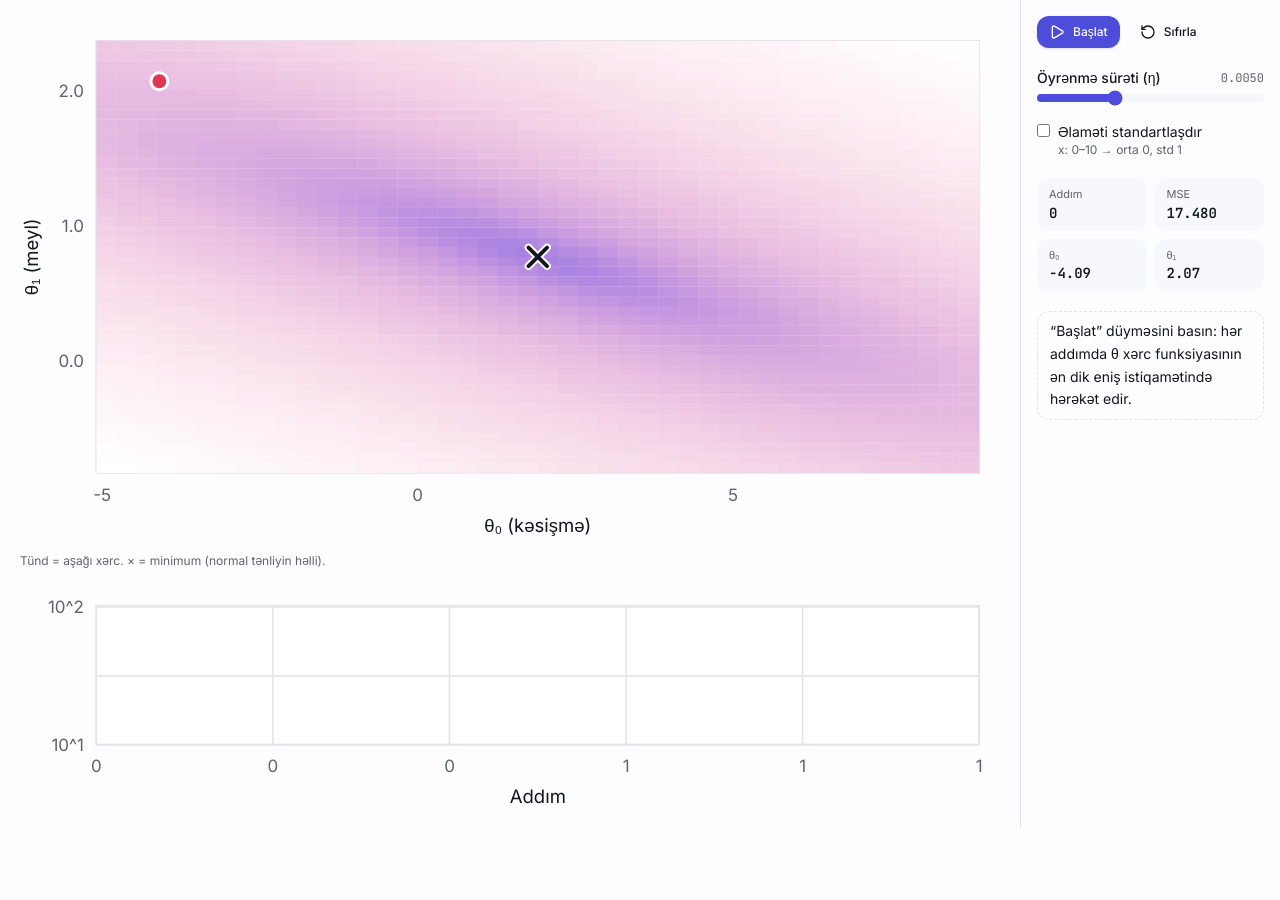
Test: chapter 4 demos (smoke) › gradient descent: scaled feature with η = 0.1 reaches the minimum
Click the checkbox labelled "Əlaməti standartlaşdır x: 0–10 → orta 0, std 1": (1044, 130) [1037, 124, 1050, 137]
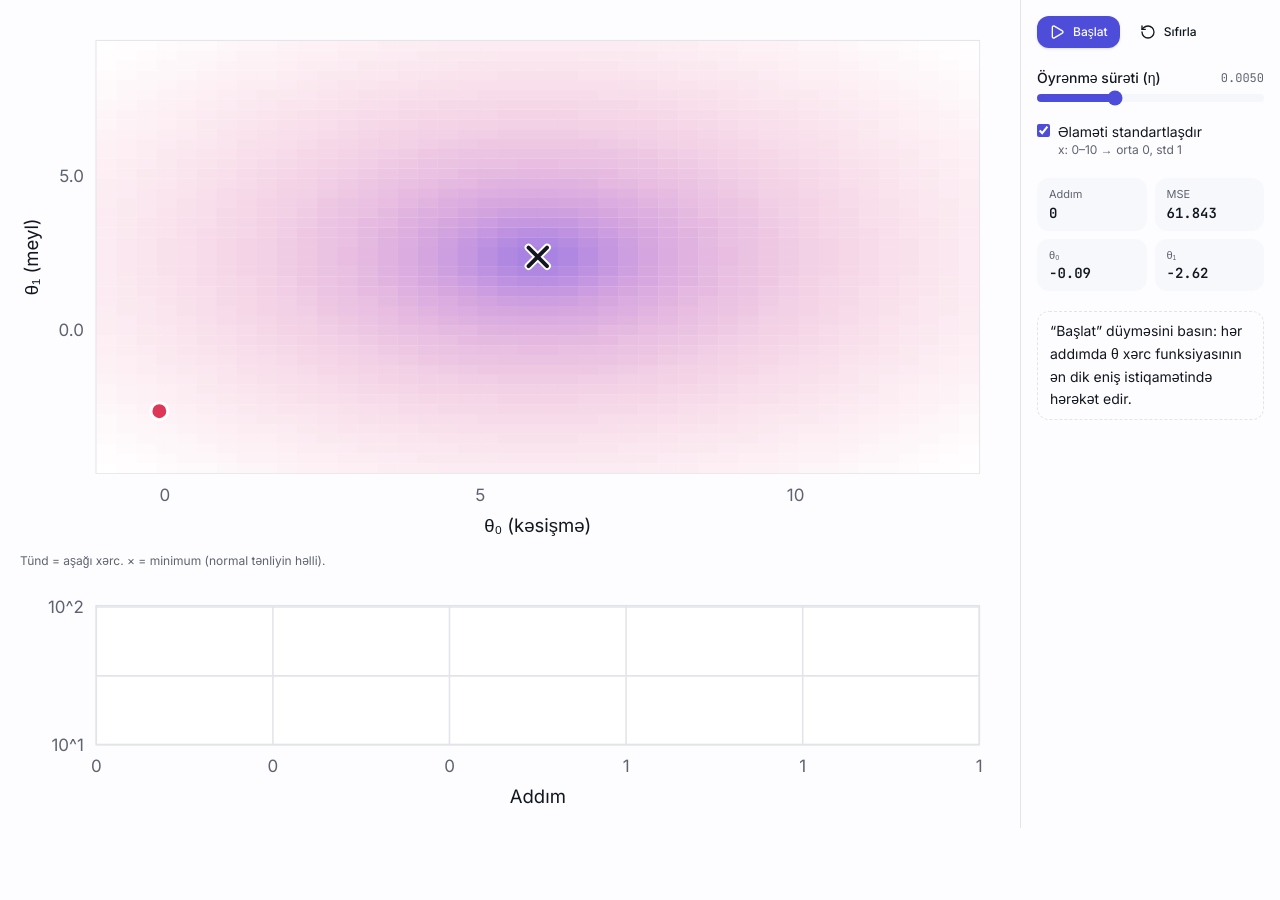
Set the slider labelled "Öyrənmə sürəti (η)" to "-1": (1192, 98) [1037, 94, 1264, 102]
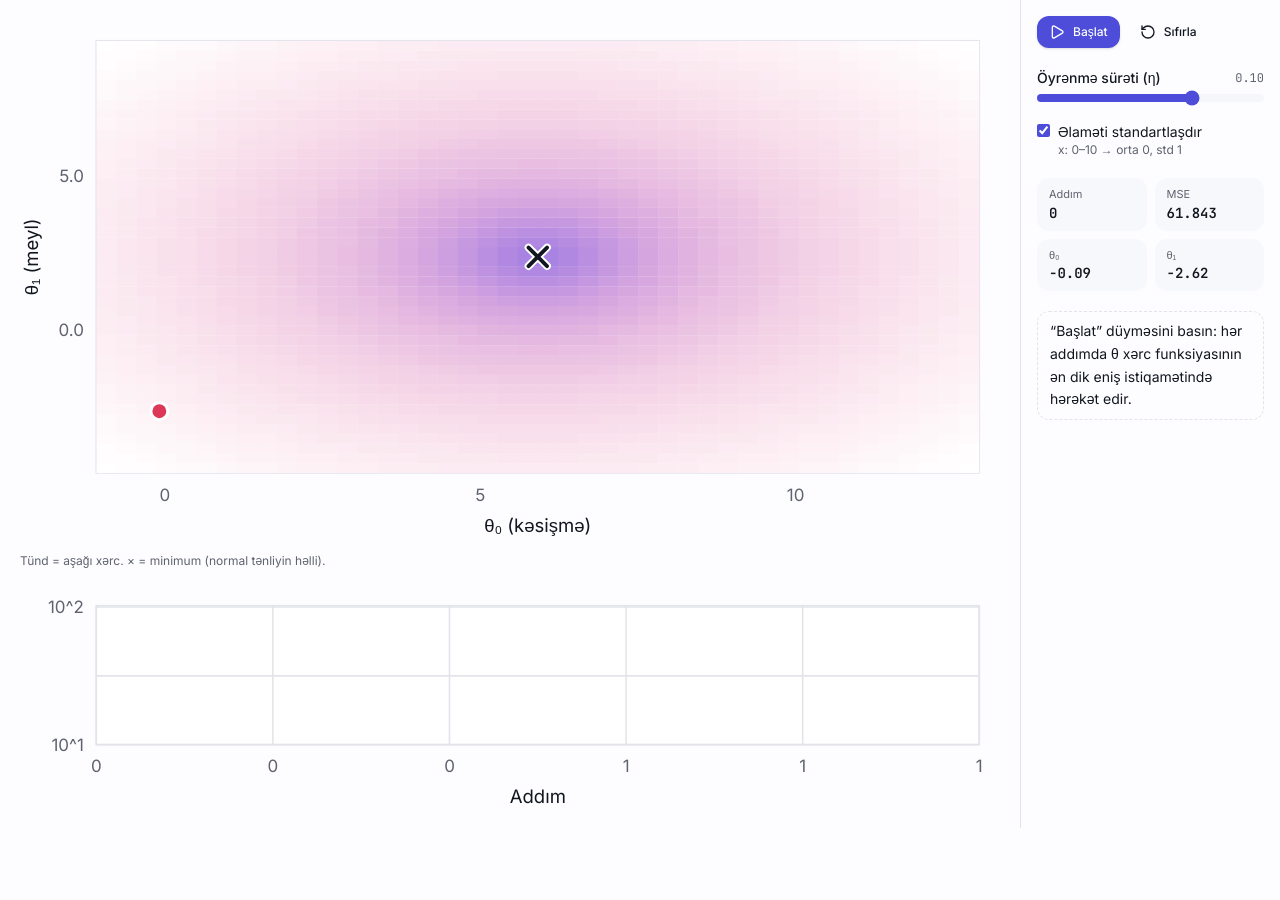
Click the button "Başlat": (1078, 32) [1037, 16, 1120, 48]
Wait 3600 ms
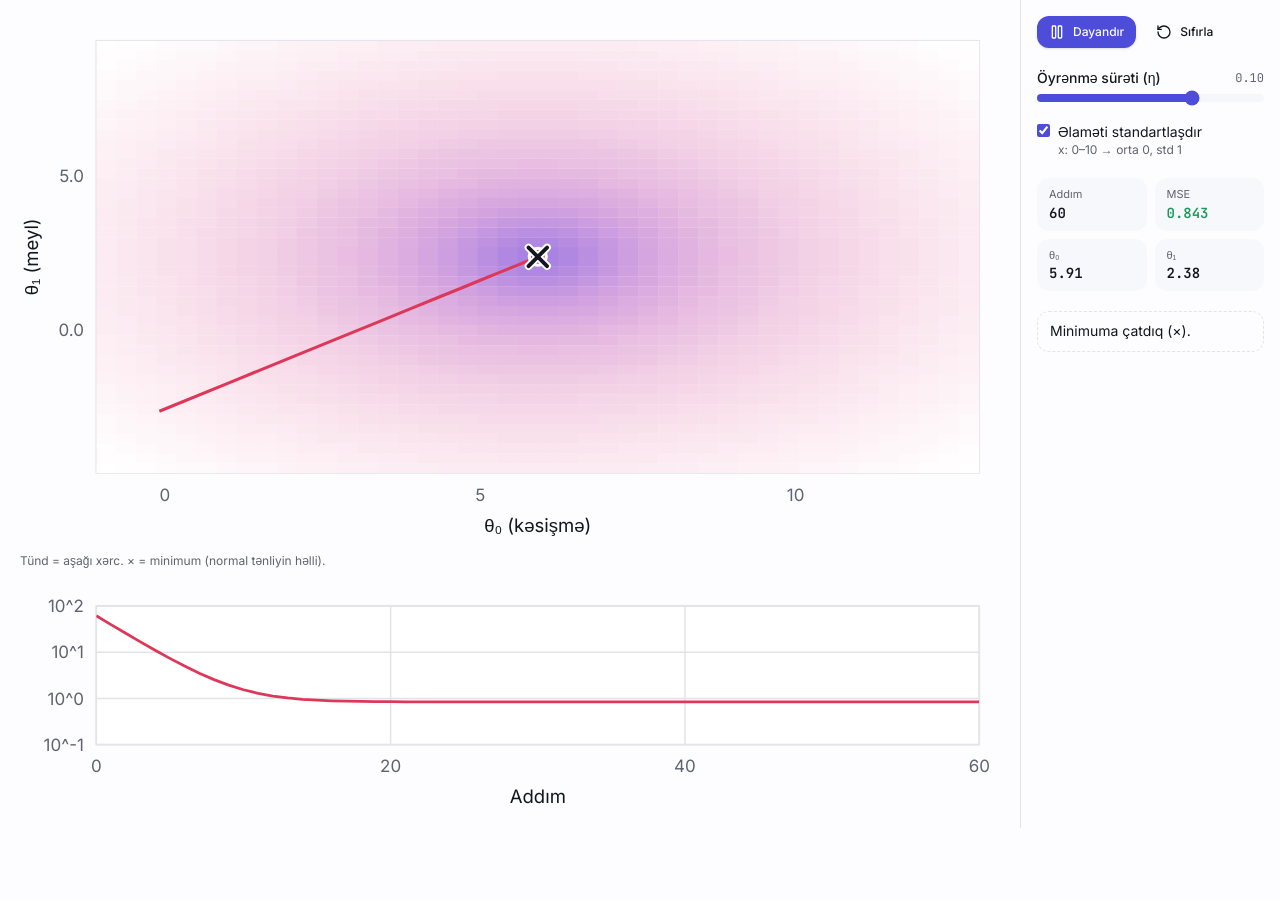
Expected: the text "Minimuma çatdıq (×)." is shown, [1037, 311, 1264, 352]
